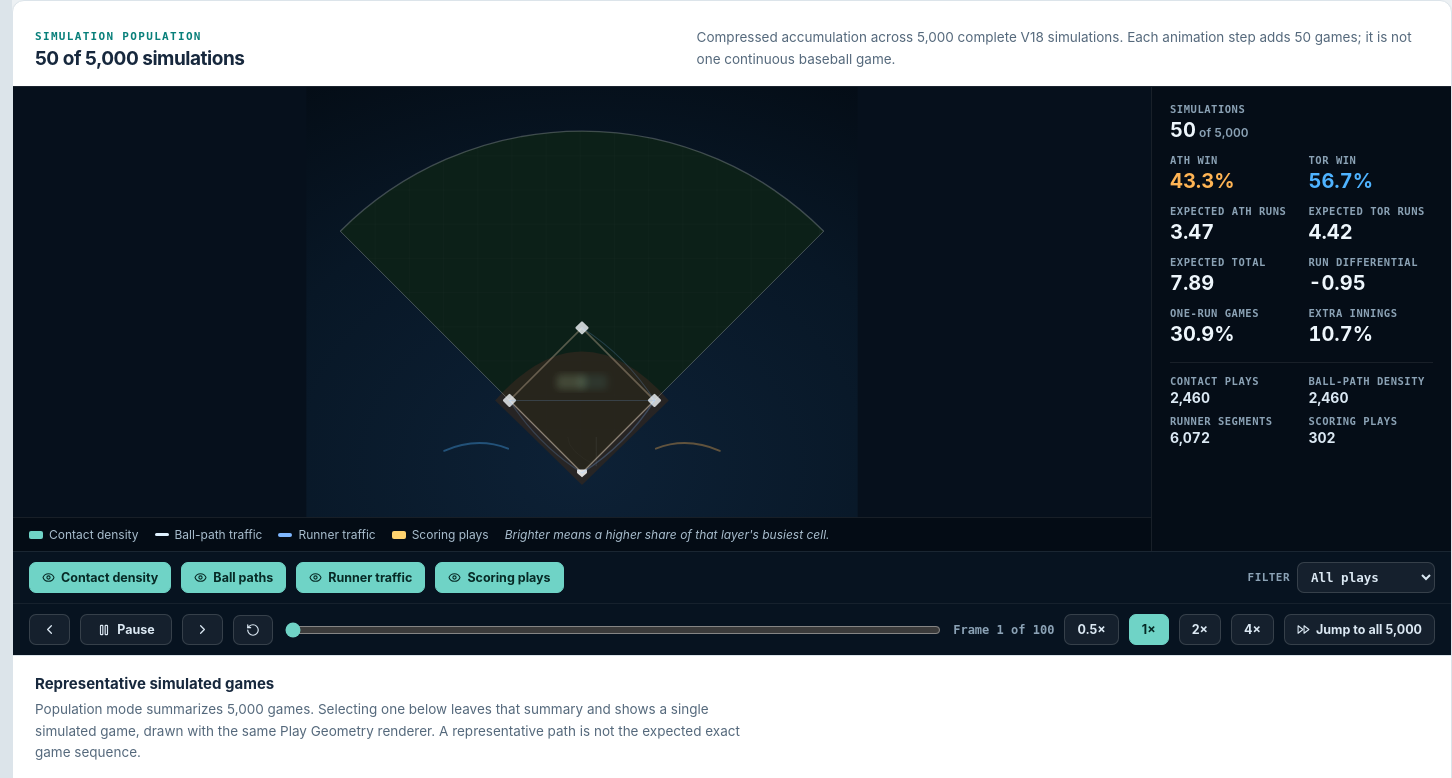
Test: the population animates its own frames › shows the accepted population metrics at the final frame
Expected: the text "Frame 1 of 100" is shown, [953,623,1054,637]
Set the slider named "accumulation frame" to "99" at [933, 630], box [285,622,941,638]
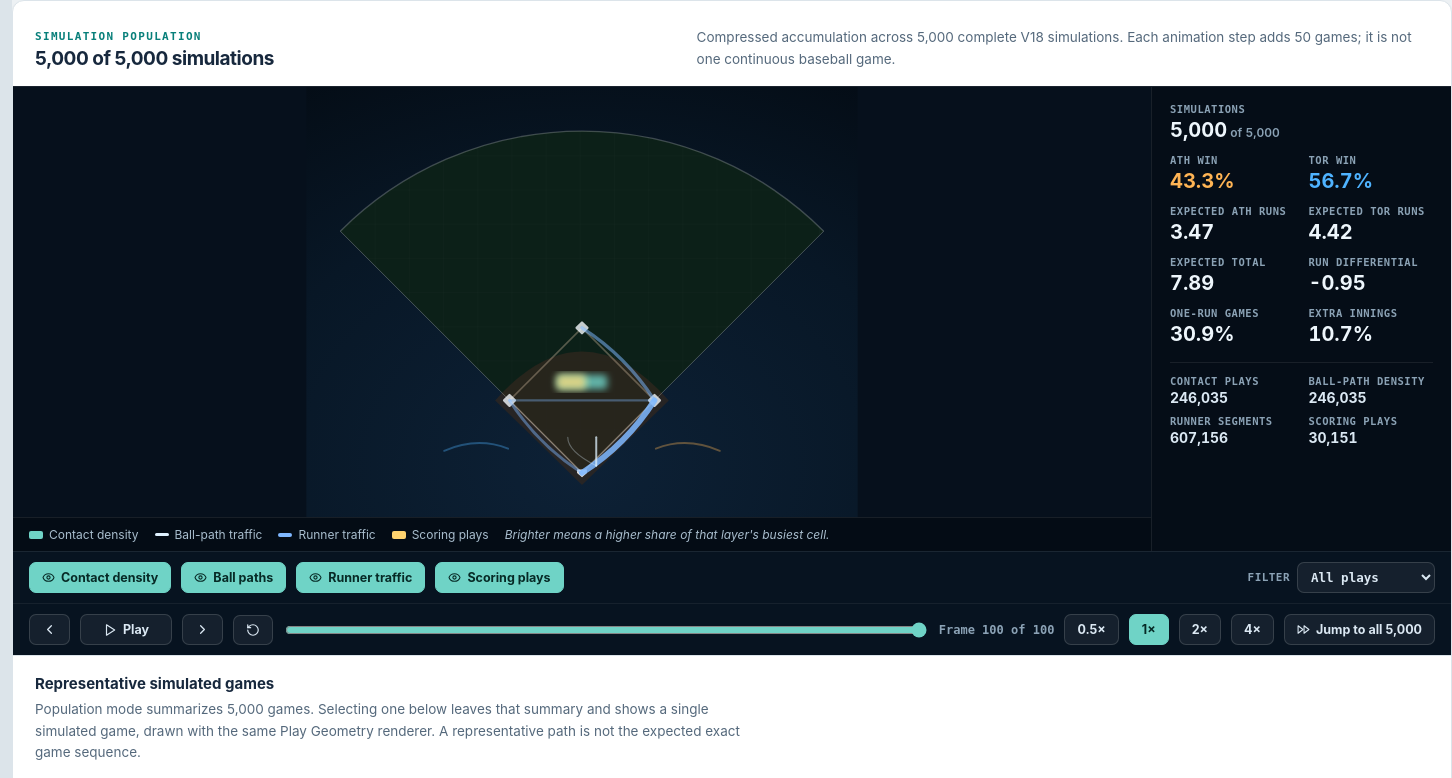
Expected: the text "43.3%" is shown, [1170,169,1234,193]
Now the text "607,156" is shown, box [1170,429,1228,446]
Now the text "30,151" is shown, box [1308,429,1358,446]
